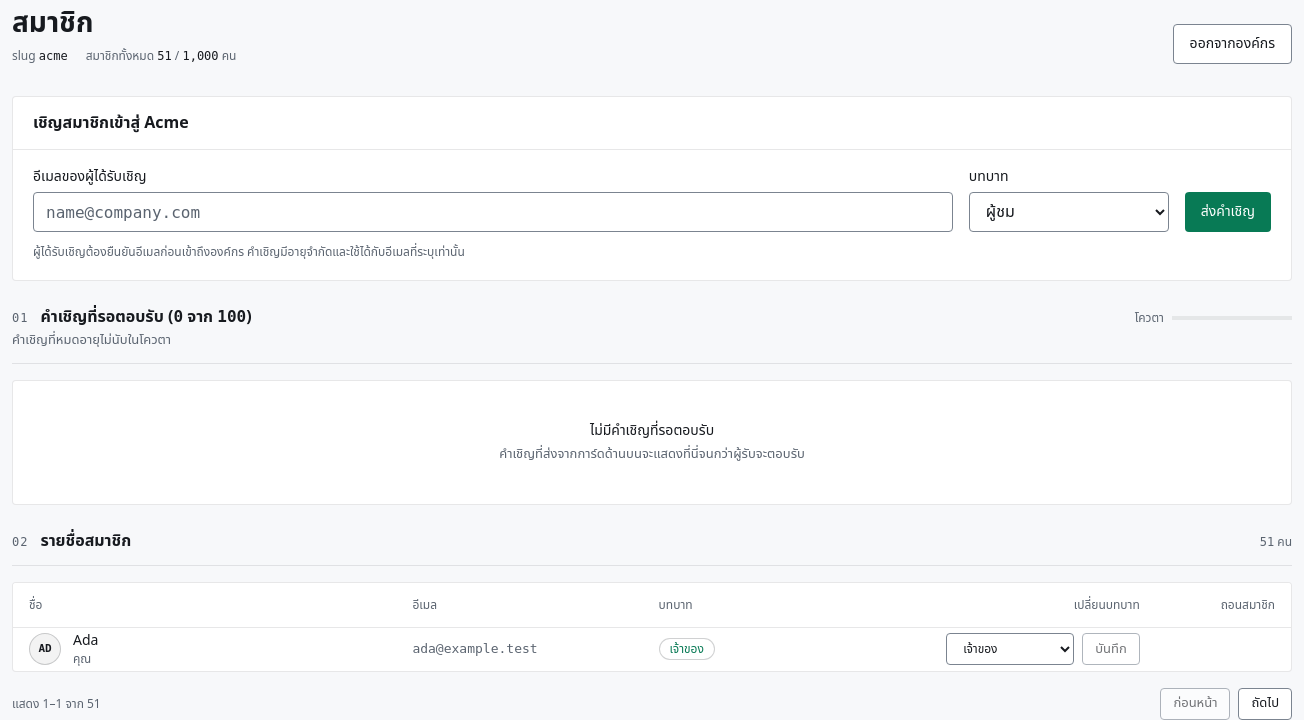
Test case: OrganizationMembersPage › shows total and moves through offset pagination without stale first-page rows
This screenshot has width=1304, height=720.
(page scrolled)
Expected: the element with test id "members-total-count" is shown, left=86, top=48, right=236, bottom=64
Expected: the text with test id "members-total" reads "51", left=157, top=49, right=172, bottom=63
Click the button with test id "members-next" at (1265, 704), box left=1238, top=688, right=1292, bottom=719
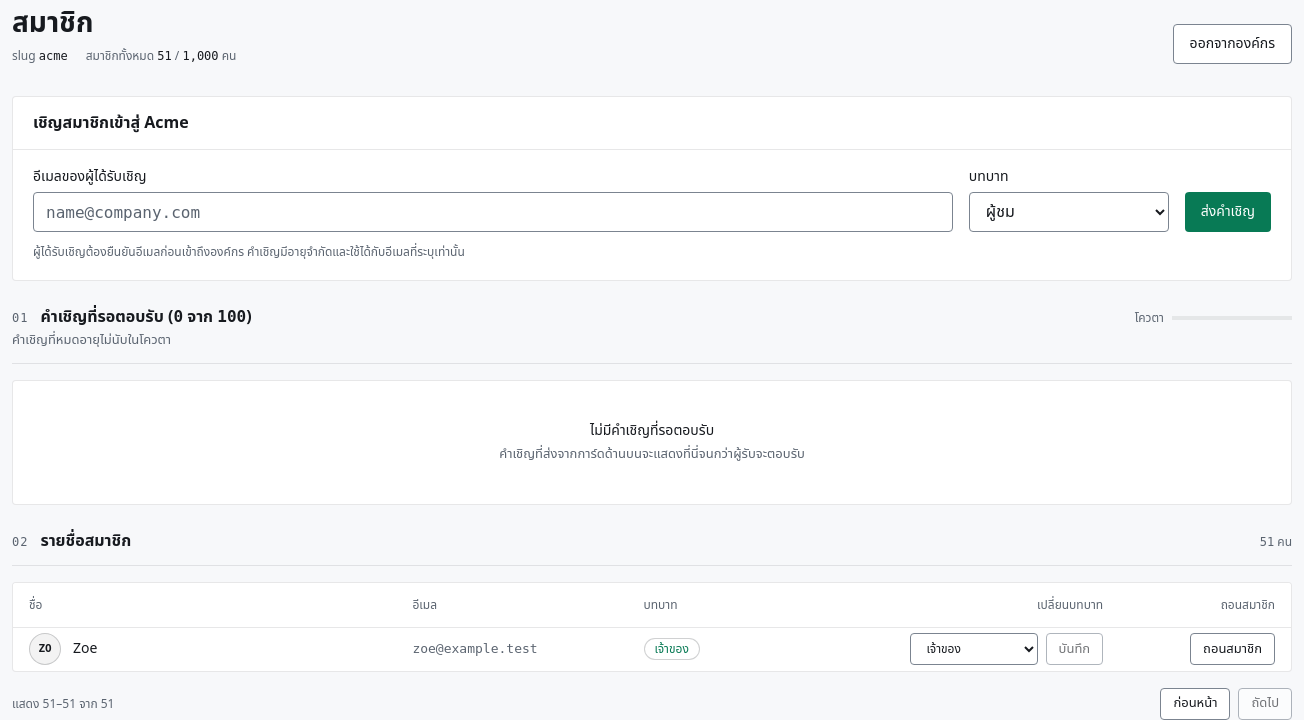
Expected: the row with test id "member-row-member-51" is shown, left=13, top=627, right=1291, bottom=671
Expected: the text with test id "member-name" reads "Zoe", left=73, top=638, right=97, bottom=659
Expected: the row with test id "member-row-member-1" is gone
